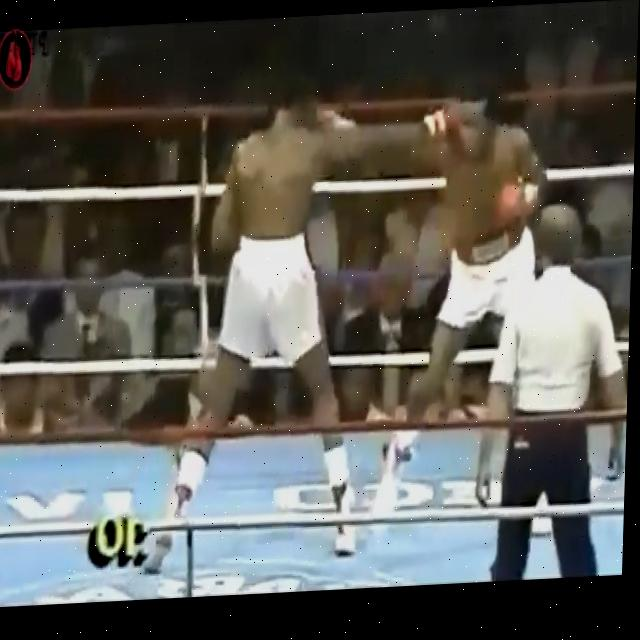Jab: (284, 87, 485, 267)
